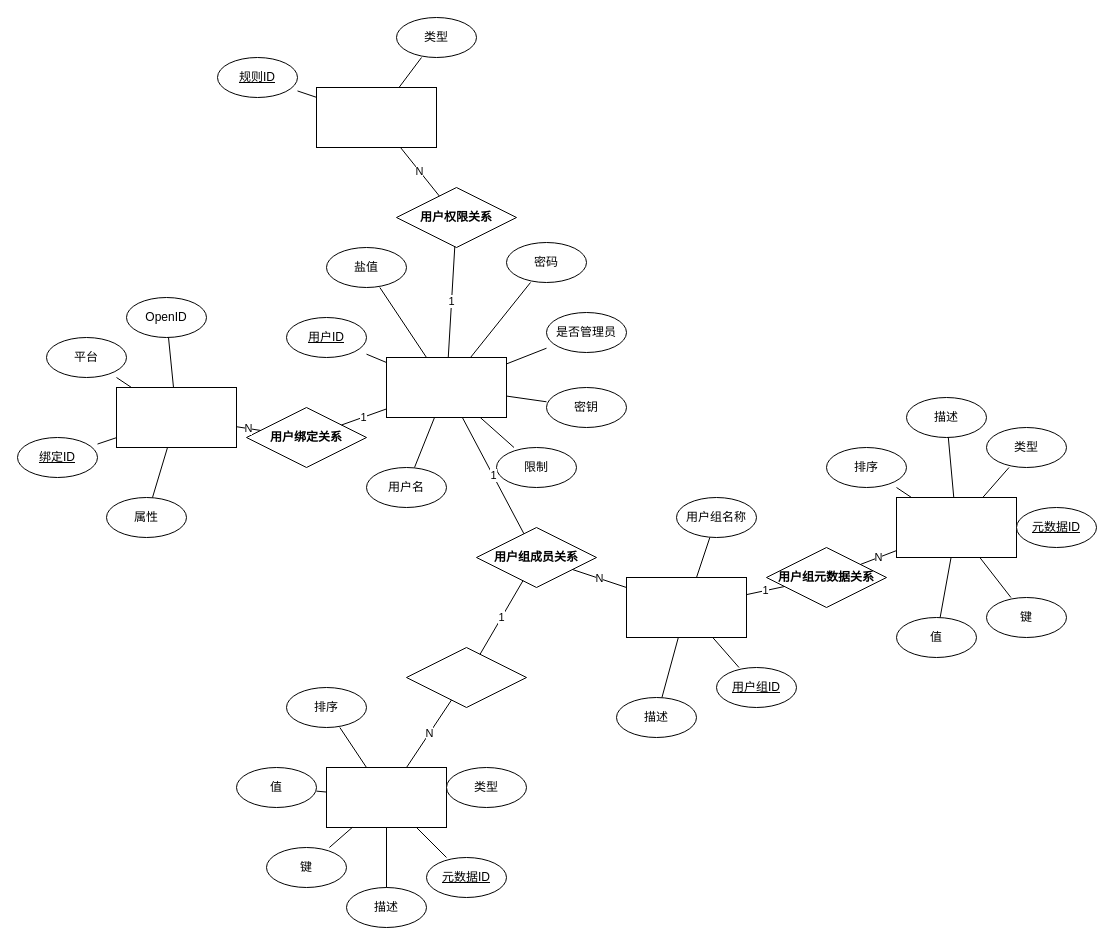
Image size: 1114x945. Some labels were removed from this diagram. Here are the shapes that lost their labels. From the top down, the box of each, then its label:
(316, 86, 436, 148): 权限规则
(386, 356, 506, 418): 用户
(116, 386, 236, 448): 用户绑定
(896, 496, 1016, 558): 用户组元数据
(626, 576, 746, 638): 用户组
(406, 646, 526, 708): 用户组成员元数据关系
(326, 766, 446, 828): 用户组成员元数据
